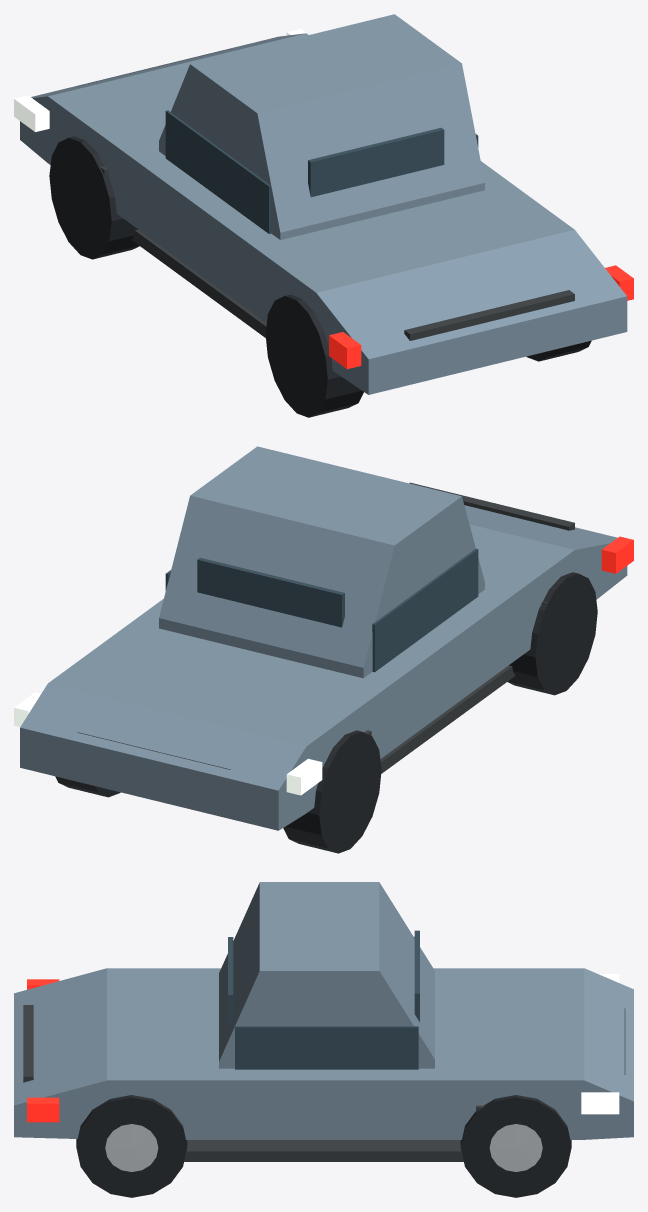
File: honda-cr-v-ehev-rs.glb
3 renders of one model, top to bottom at view 1: azimuth 30°, elevation 25°; view 2: azimuth 150°, elevation 25°; view 3: azimuth 270°, elevation 25°, orthographic. The views are drawn at different scales.
Parts seen in each view (by area): view 1: honda-cr-v-ehev-rs illustrative model; view 2: honda-cr-v-ehev-rs illustrative model; view 3: honda-cr-v-ehev-rs illustrative model.
Part boxes in pixels (x1,y1,x2,y2): honda-cr-v-ehev-rs illustrative model: [14, 14, 633, 417]; honda-cr-v-ehev-rs illustrative model: [14, 446, 633, 853]; honda-cr-v-ehev-rs illustrative model: [14, 882, 633, 1197].
Size of the model in its own units: 2.02 by 1.61 by 4.25.
